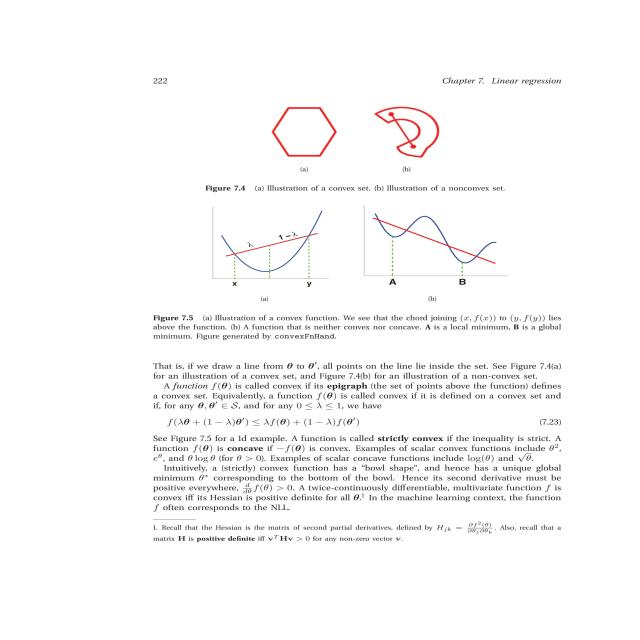diagram: (141, 93, 640, 347)
